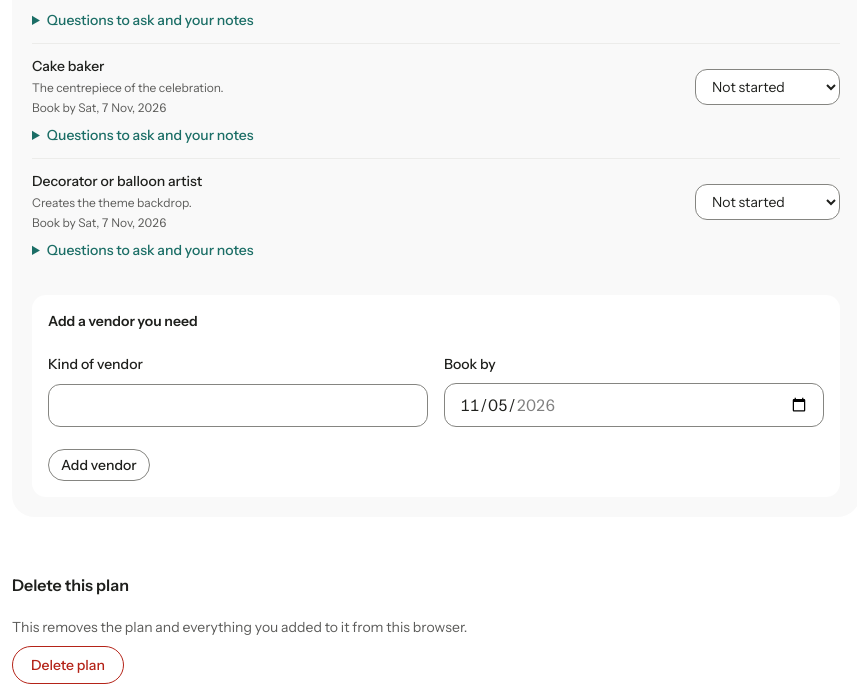
Test: things going wrong › refuses a book-by date that has already passed
(page scrolled)
Type "Magician" into the field labelled "Kind of vendor".
click(238, 406); type("Magician")  # box [48,384,428,427]
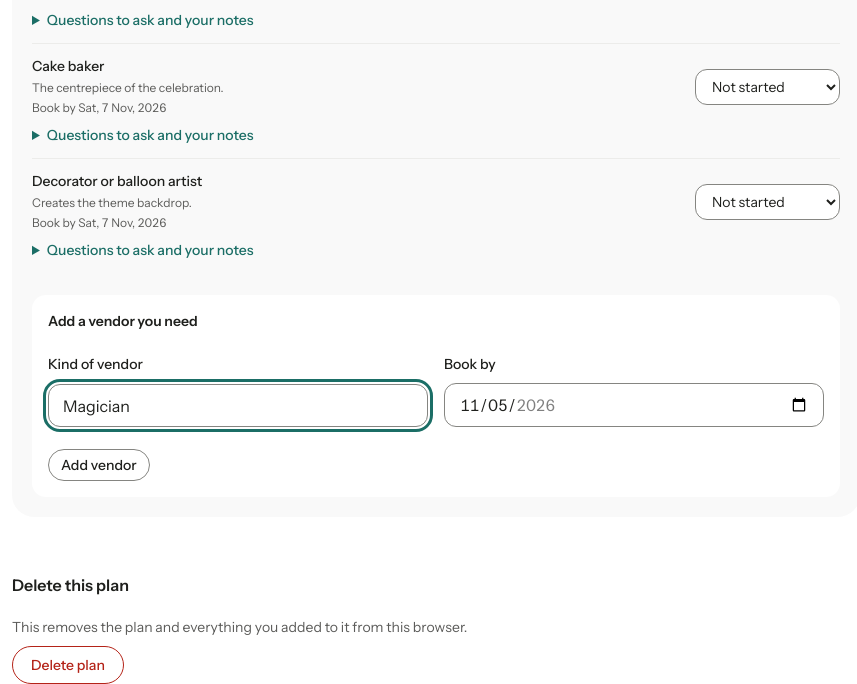
Type "2026-10-01" into the date field labelled "Book by".
click(634, 405); type("2026-10-01")  # box [444,383,824,427]
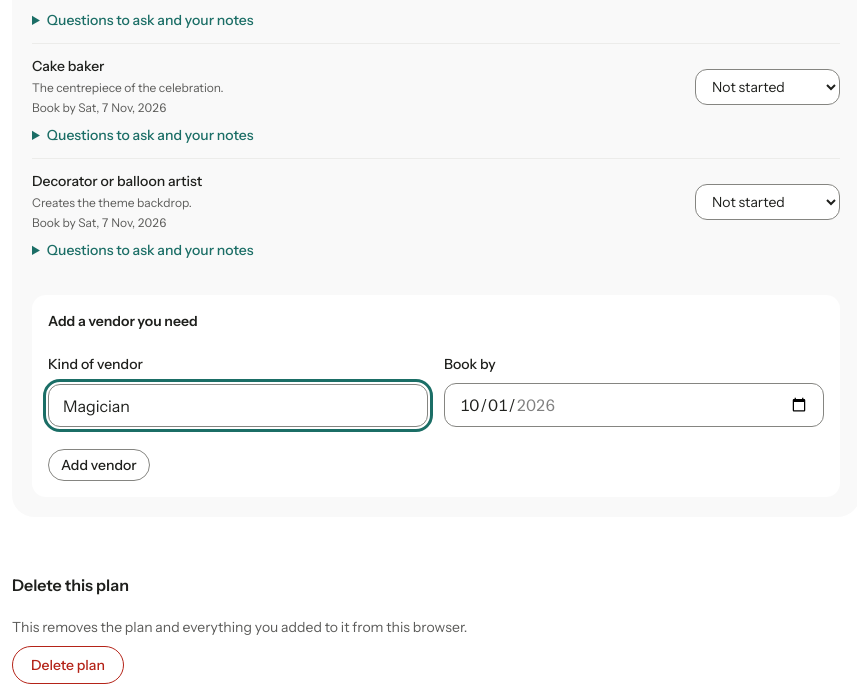
Click the button "Add vendor".
click(99, 465)  # box [48,449,150,481]
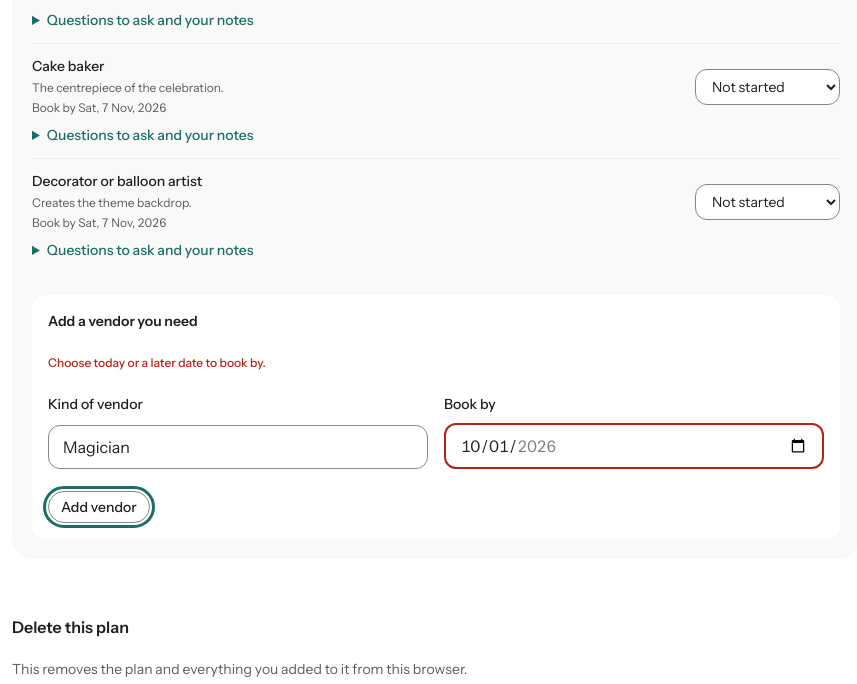
Expected: the message reads "Choose today or a later date to book by.", [48,355,266,370]
